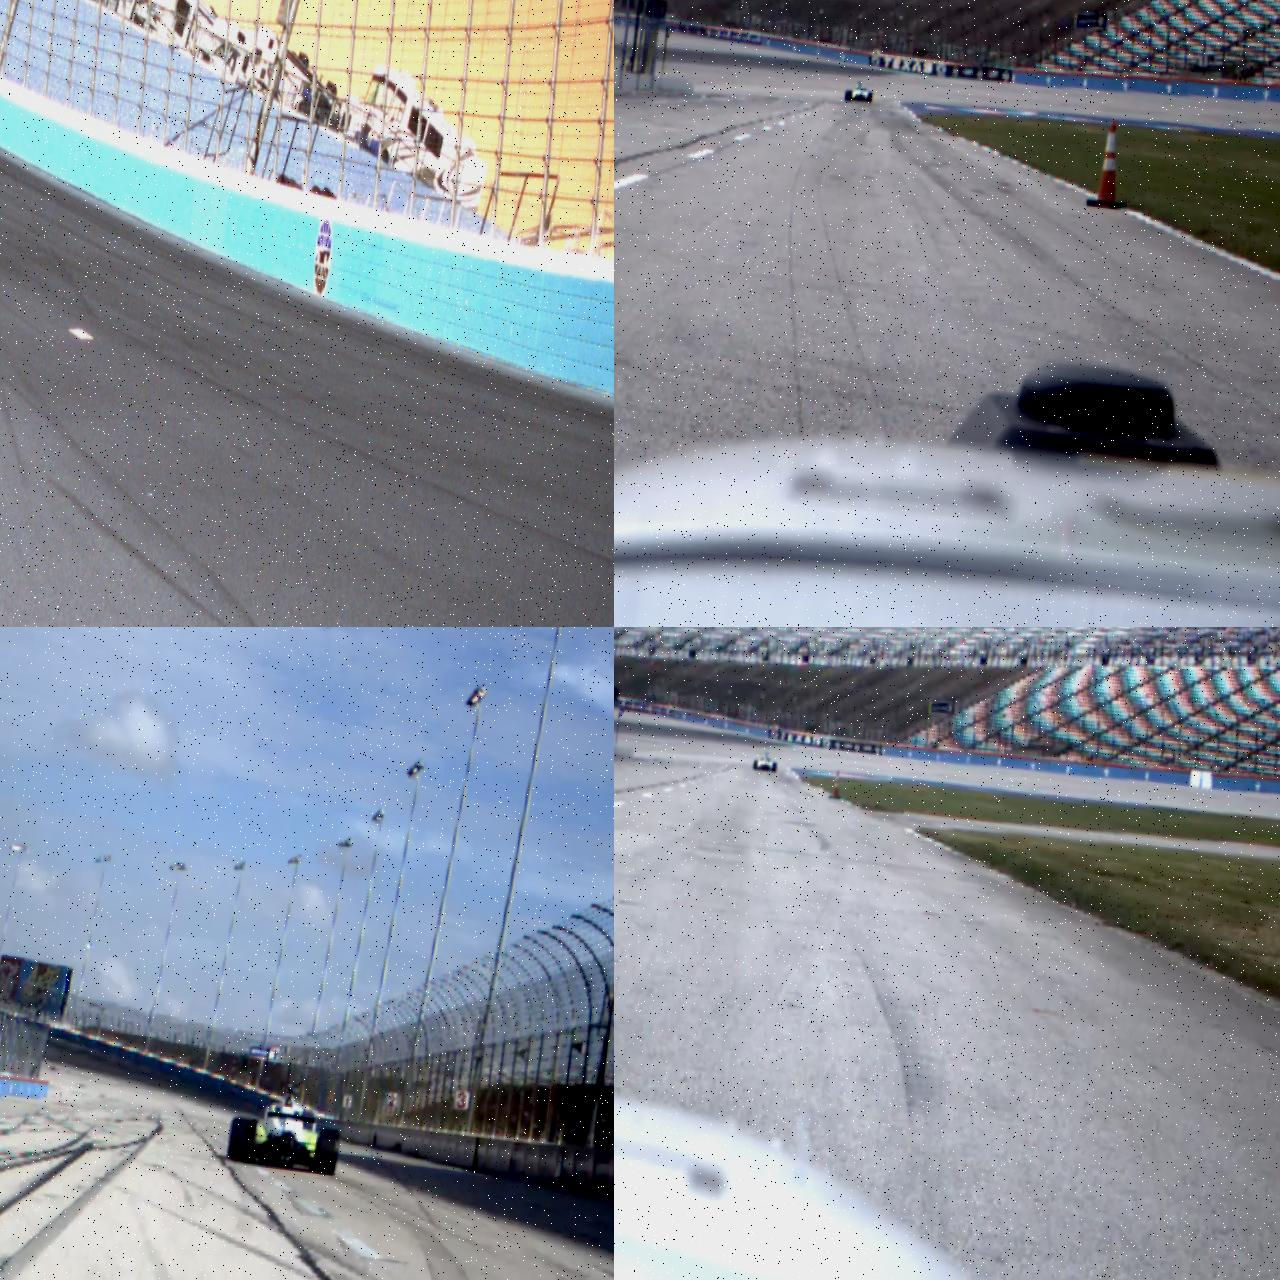AV: (225, 1076, 347, 1177), (844, 80, 874, 104), (753, 750, 779, 774)
Wheel: (227, 1117, 259, 1160), (314, 1128, 341, 1176), (866, 90, 873, 104), (844, 90, 852, 102), (772, 762, 778, 772), (753, 760, 757, 770)
